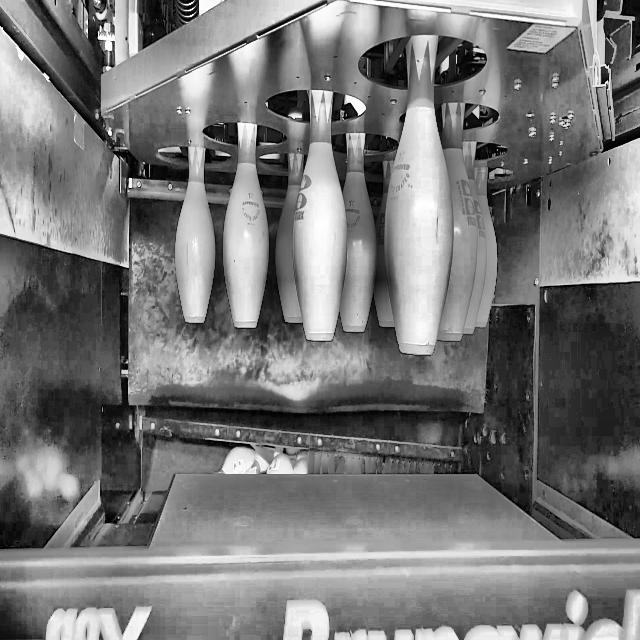bowling-pins: (384, 33, 454, 354), (293, 87, 347, 340), (223, 120, 269, 327), (439, 100, 478, 340), (340, 130, 377, 332), (175, 137, 215, 322), (275, 137, 304, 322), (463, 139, 488, 333), (475, 159, 498, 326), (374, 193, 395, 326)
